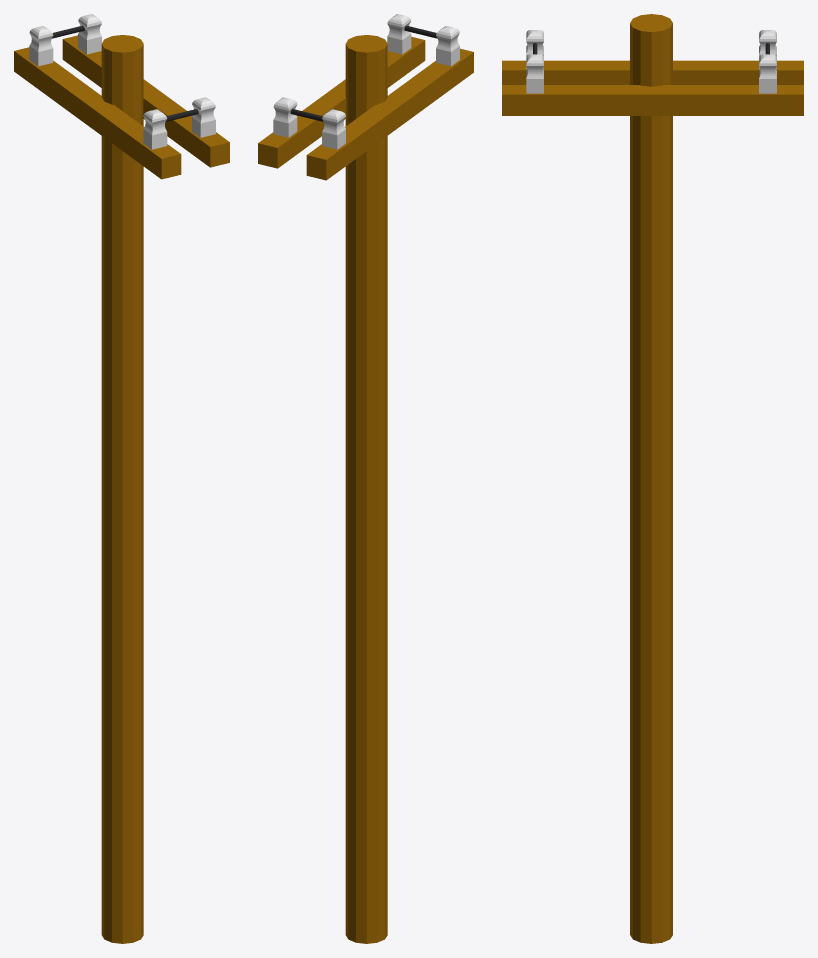
File: ElectricHach.fbx
The picture shows the model from 3 angles, left to right: view 1: azimuth 30°, elevation 25°; view 2: azimuth 150°, elevation 25°; view 3: azimuth 270°, elevation 25°; orthographic projection. The views are drawn at different scales.
Visible parts, largest first — view 1: Cylinder, Cylinder.003, Cylinder.004, Cylinder.002, Cylinder.001; view 2: Cylinder, Cylinder.003, Cylinder.004, Cylinder.001, Cylinder.002; view 3: Cylinder, Cylinder.001, Cylinder.002.
Part boxes in pixels (bbox=[...]): Cylinder: bbox=[14, 35, 229, 943]; Cylinder.003: bbox=[29, 26, 53, 66]; Cylinder.004: bbox=[143, 109, 167, 149]; Cylinder.002: bbox=[192, 97, 215, 137]; Cylinder.001: bbox=[78, 14, 101, 54]; Cylinder: bbox=[258, 35, 473, 943]; Cylinder.003: bbox=[322, 109, 345, 149]; Cylinder.004: bbox=[436, 26, 459, 66]; Cylinder.001: bbox=[273, 97, 297, 137]; Cylinder.002: bbox=[387, 14, 411, 54]; Cylinder: bbox=[502, 14, 803, 943]; Cylinder.001: bbox=[759, 54, 776, 93]; Cylinder.002: bbox=[526, 54, 543, 93].
Bounding box in the file's own units: 112 × 1400 × 420.
